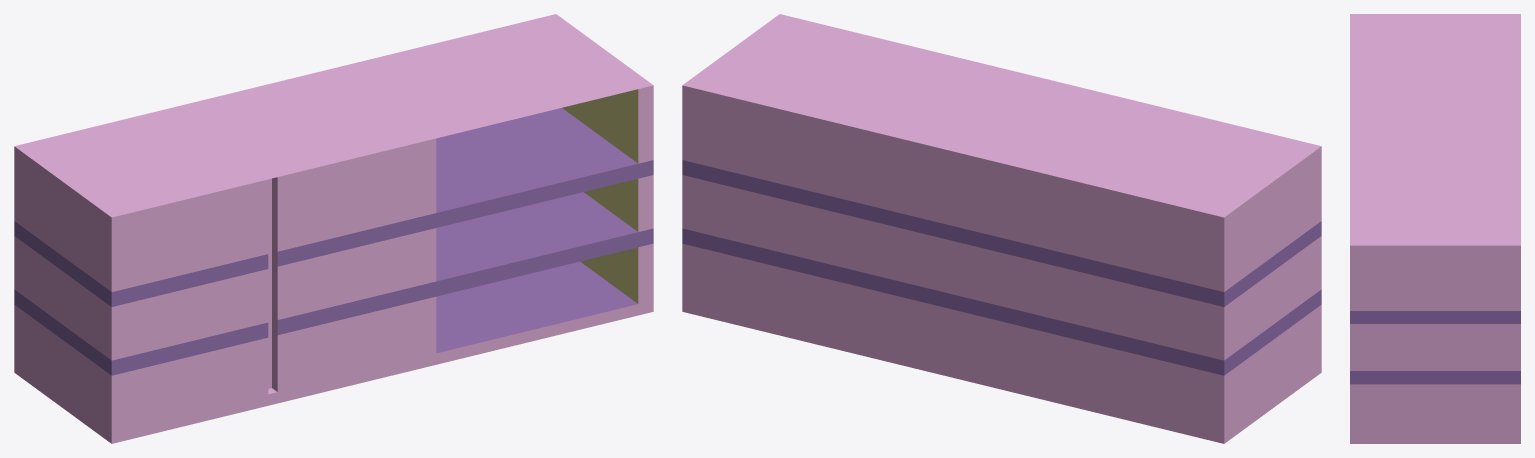
Rendered from UpperCounter.fbx.
3 renders of one model, left to right at view 1: azimuth 30°, elevation 25°; view 2: azimuth 150°, elevation 25°; view 3: azimuth 270°, elevation 25°, orthographic. The views are drawn at different scales.
Parts seen in each view (by area): view 1: Cube.001; view 2: Cube.001; view 3: Cube.001.
Boxes of the visible parts, box(x1,y1,x2,y2) form: Cube.001: box(14, 14, 653, 443); Cube.001: box(682, 14, 1321, 443); Cube.001: box(1350, 14, 1520, 443).
Size of the model in its own units: 1.45 by 0.5784 by 0.4516.
